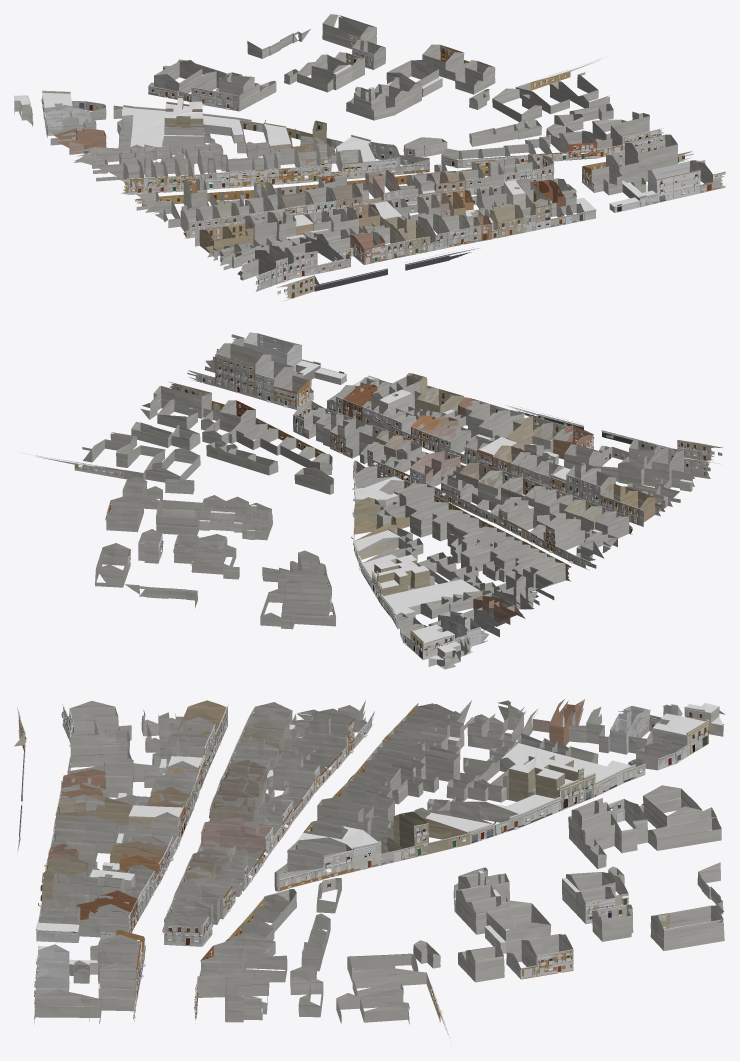
File: zona_1_-1.glb
The picture shows the model from 3 angles, top to bottom: view 1: azimuth 30°, elevation 25°; view 2: azimuth 150°, elevation 25°; view 3: azimuth 270°, elevation 25°; orthographic projection. The views are drawn at different scales.
Parts seen in each view (by area): view 1: z_casas_1_-1, z_fachadas_1_-1, z_casas_planas_1_-1; view 2: z_casas_1_-1, z_fachadas_1_-1, z_casas_planas_1_-1; view 3: z_casas_1_-1, z_fachadas_1_-1, z_casas_planas_1_-1.
Boxes of the visible parts, x1,y1,x2,y2 form: z_casas_1_-1: (14, 14, 725, 301); z_fachadas_1_-1: (27, 33, 725, 298); z_casas_planas_1_-1: (14, 64, 657, 291); z_casas_1_-1: (75, 332, 722, 668); z_fachadas_1_-1: (20, 333, 722, 659); z_casas_planas_1_-1: (140, 360, 692, 669); z_casas_1_-1: (14, 699, 725, 1024); z_fachadas_1_-1: (17, 703, 723, 1038); z_casas_planas_1_-1: (19, 703, 723, 1020).
Bounding box in the file's own units: 228 × 15.1 × 203.
